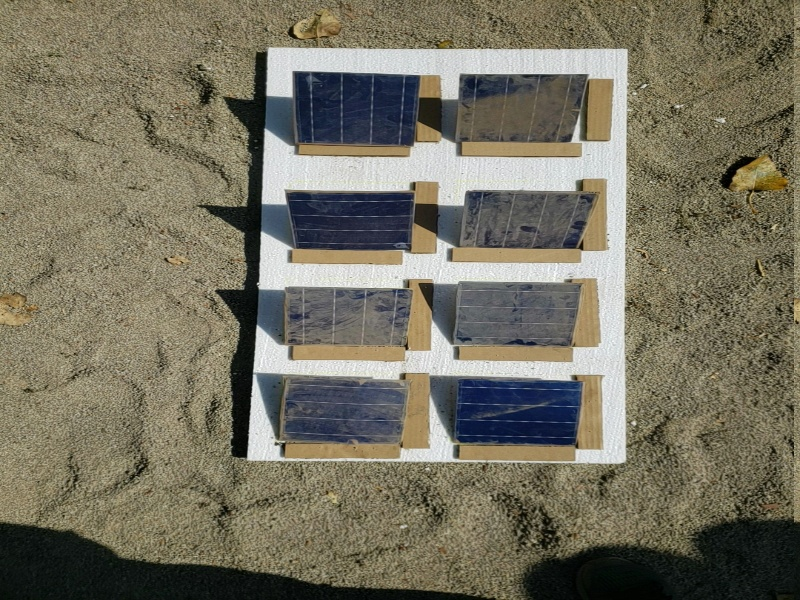clean: (293, 73, 420, 148), (455, 375, 588, 446), (279, 194, 424, 253)
dirty: (450, 70, 591, 145), (283, 375, 412, 448), (452, 187, 598, 249), (456, 278, 583, 347), (285, 290, 410, 348)
